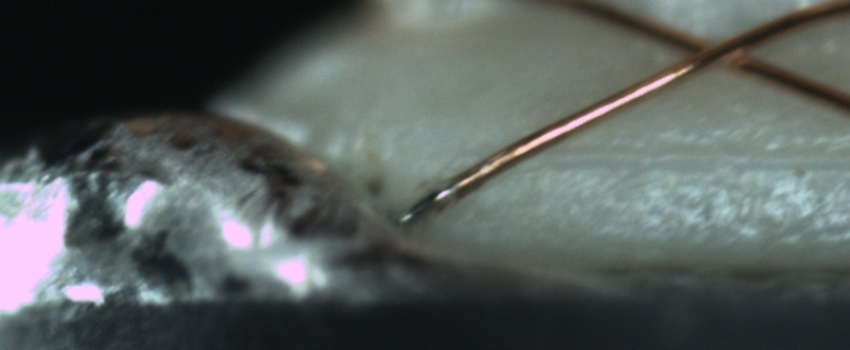CL: (661, 22, 783, 76)
DL: (514, 126, 850, 190)
TS: (393, 184, 454, 226)
TTCW: (397, 163, 488, 231)
